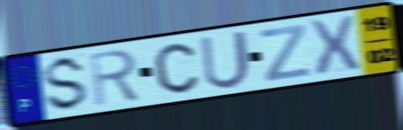C: (152, 41, 201, 95)
R: (88, 47, 143, 109)
S: (43, 54, 91, 114)
U: (198, 28, 253, 92)
X: (307, 13, 363, 79)
Z: (259, 22, 311, 83)
